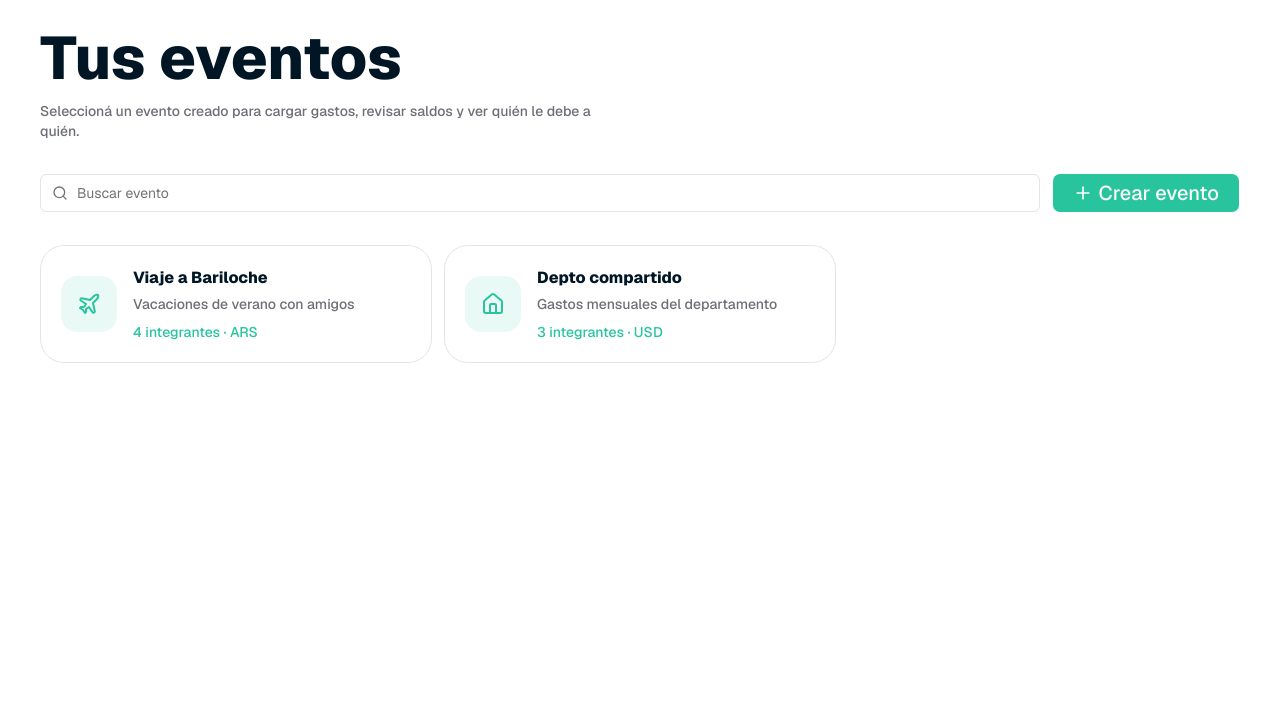
it: EventsPage › no envía la request cuando el nombre es inválido
The width and height of the screenshot is (1280, 720).
expect the heading "Viaje a Bariloche" is shown: met, box [133,267,268,288]
Click the button "Crear evento": (1146, 193) [1052,173,1240,213]
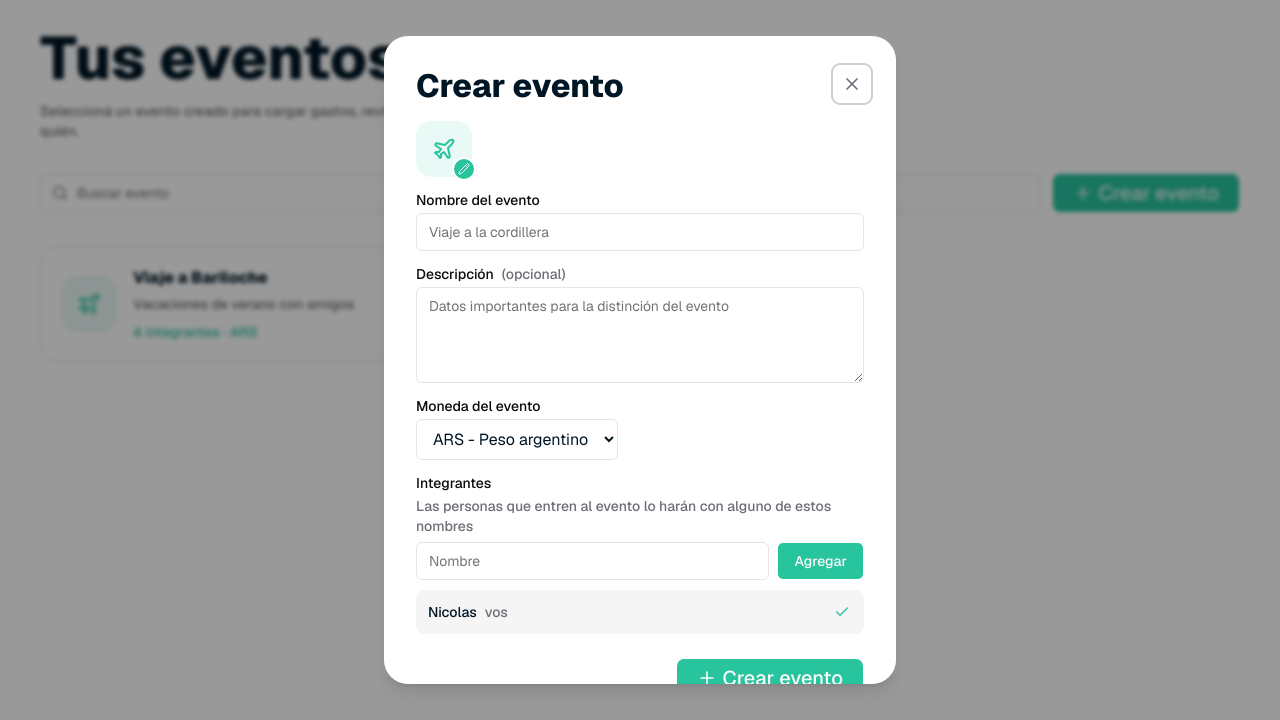
Click the button "Crear evento": (770, 678) [676,658,864,698]
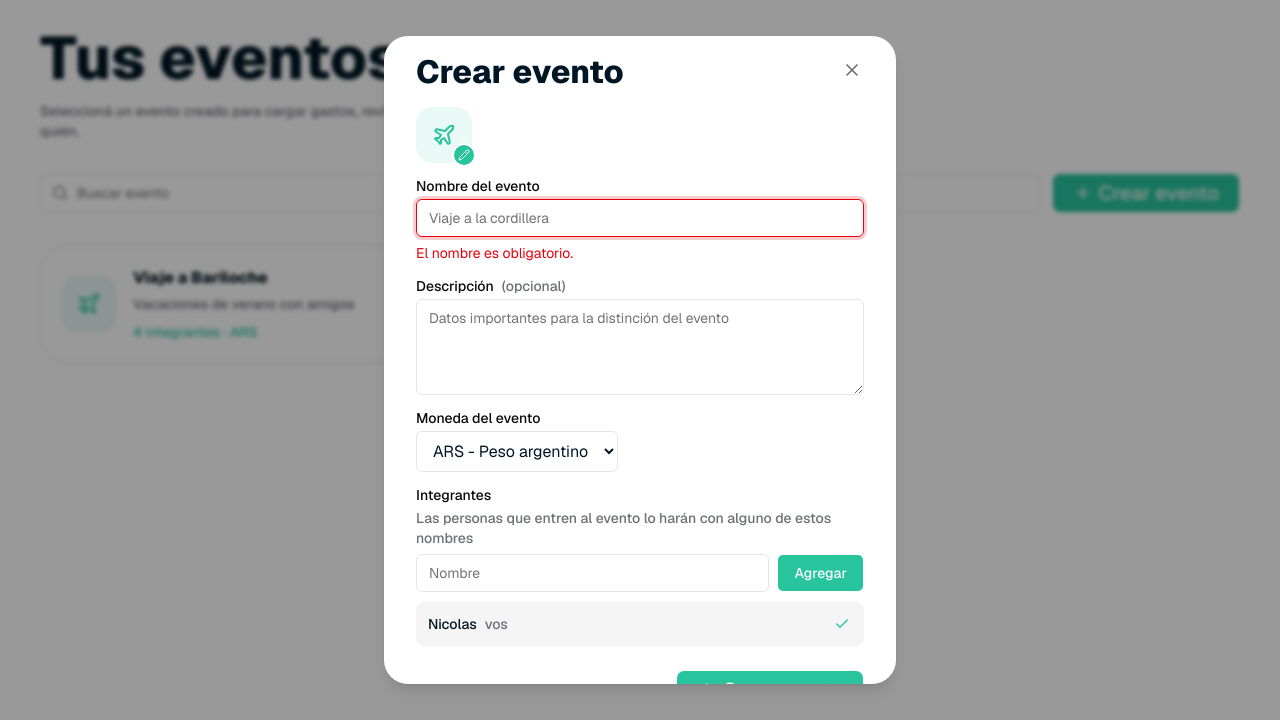
expect the text "El nombre es obligatorio." is shown: met, box [416,244,573,262]
